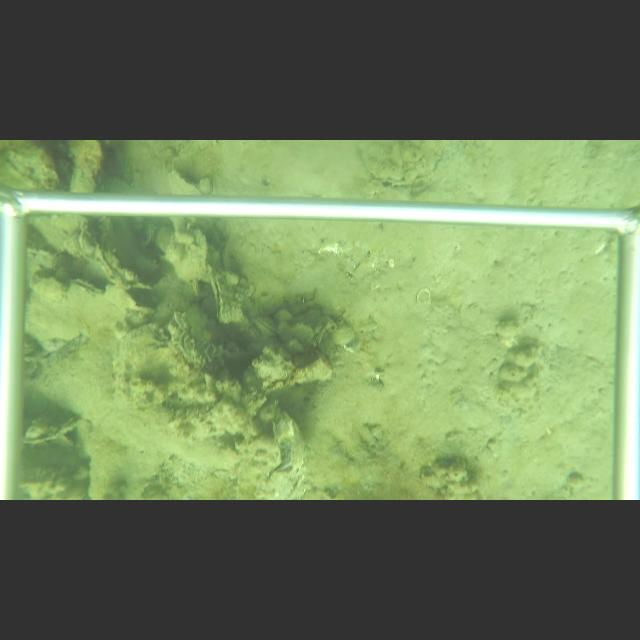Oyster-Closed: (25, 277, 135, 348), (169, 229, 212, 285), (253, 317, 277, 338)
Oyster-Open: (21, 417, 81, 448), (209, 268, 232, 323)
